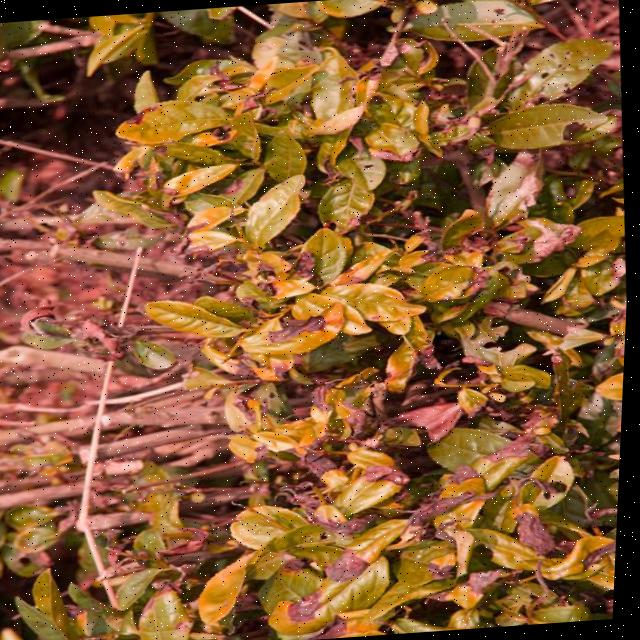Tea cloud leaf blight: (395, 392, 471, 450), (277, 576, 345, 628), (320, 545, 378, 589), (418, 486, 485, 524), (320, 503, 379, 544), (443, 262, 499, 298), (359, 457, 411, 495), (272, 313, 330, 347), (302, 446, 343, 486), (299, 384, 342, 420), (428, 546, 462, 582), (291, 250, 321, 289), (248, 436, 282, 466), (471, 564, 505, 590)
